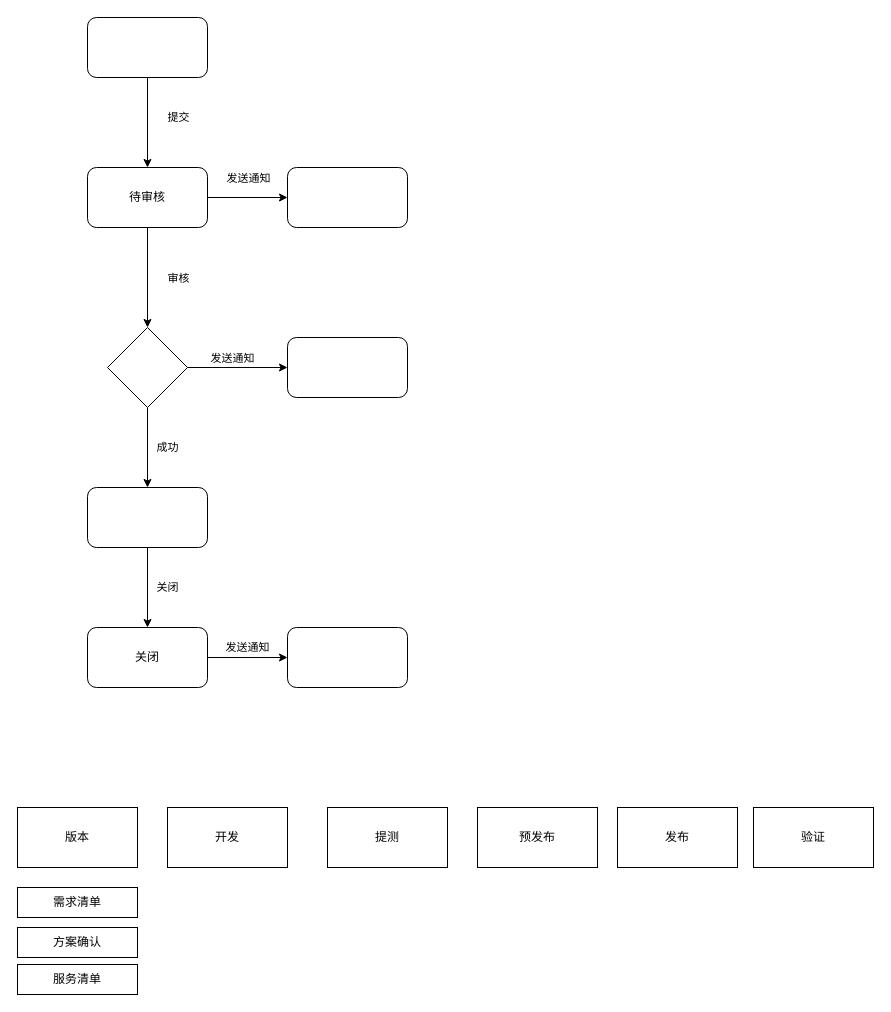
Some shapes in this 891 by 1012 pixel diagram are drawn without their labels. Each missing label, with the centre of its shape:
"待执行/自动执行" belongs at [147,517].
"新建/编辑审核单" belongs at [147,47].
"通知 审核人 审核" belongs at [347,197].
"通知 申请人和审核人 已关闭" belongs at [347,657].
"通知申请人 审核结果" belongs at [347,367].
